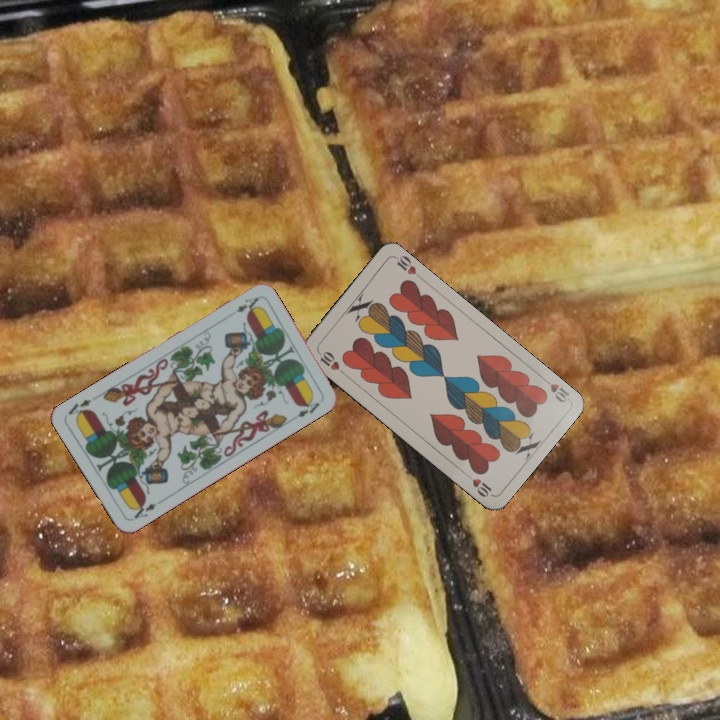EA: (128, 496, 165, 523), (232, 293, 262, 315)
H10: (538, 373, 572, 405), (314, 347, 348, 377)
